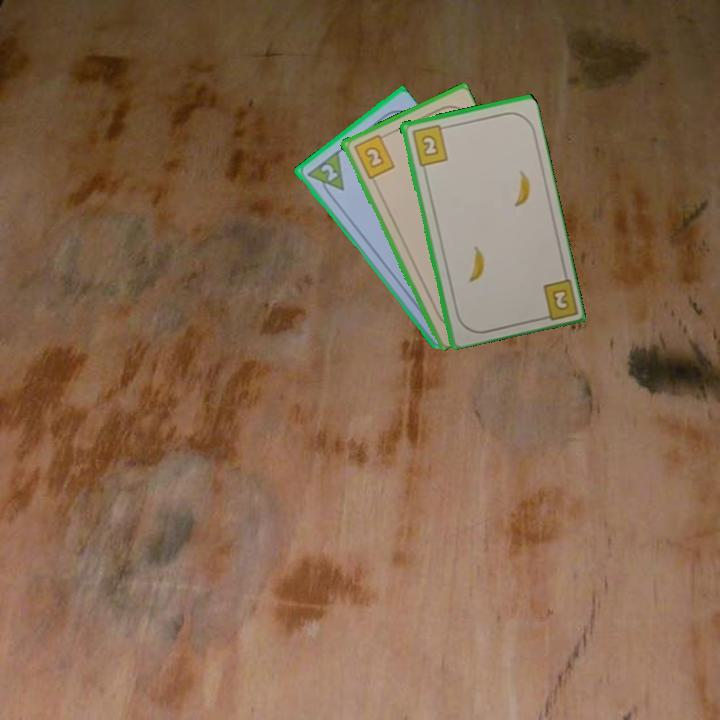2b: (350, 130, 397, 182), (535, 274, 579, 323), (408, 121, 451, 168)
2p: (302, 148, 347, 201)
